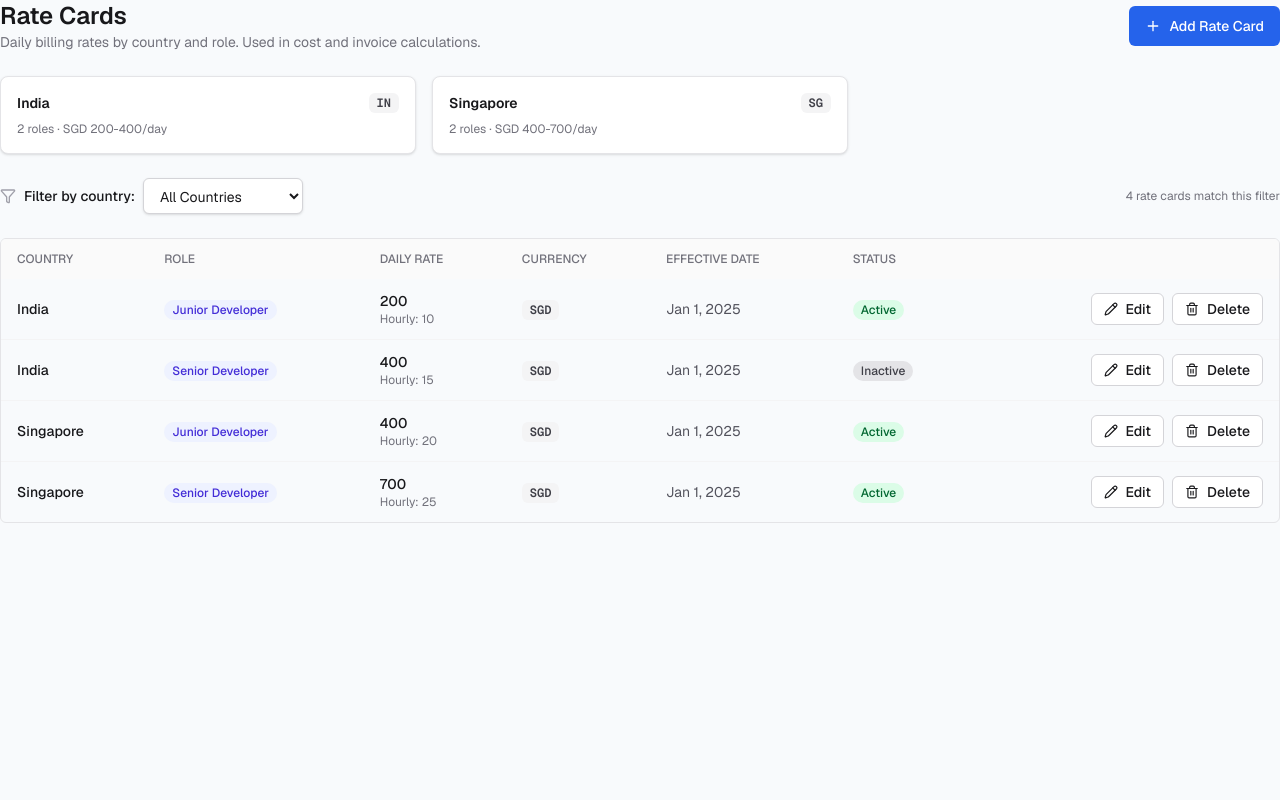
Scenario: RateCardsTable › opens the Add Rate Card modal when the header button is clicked
Expected: the text "2 roles · SGD 400-700/day" is shown, [449, 121, 597, 137]
Click the button "Add Rate Card" at x=1205, y=26, box [1129, 6, 1279, 46]
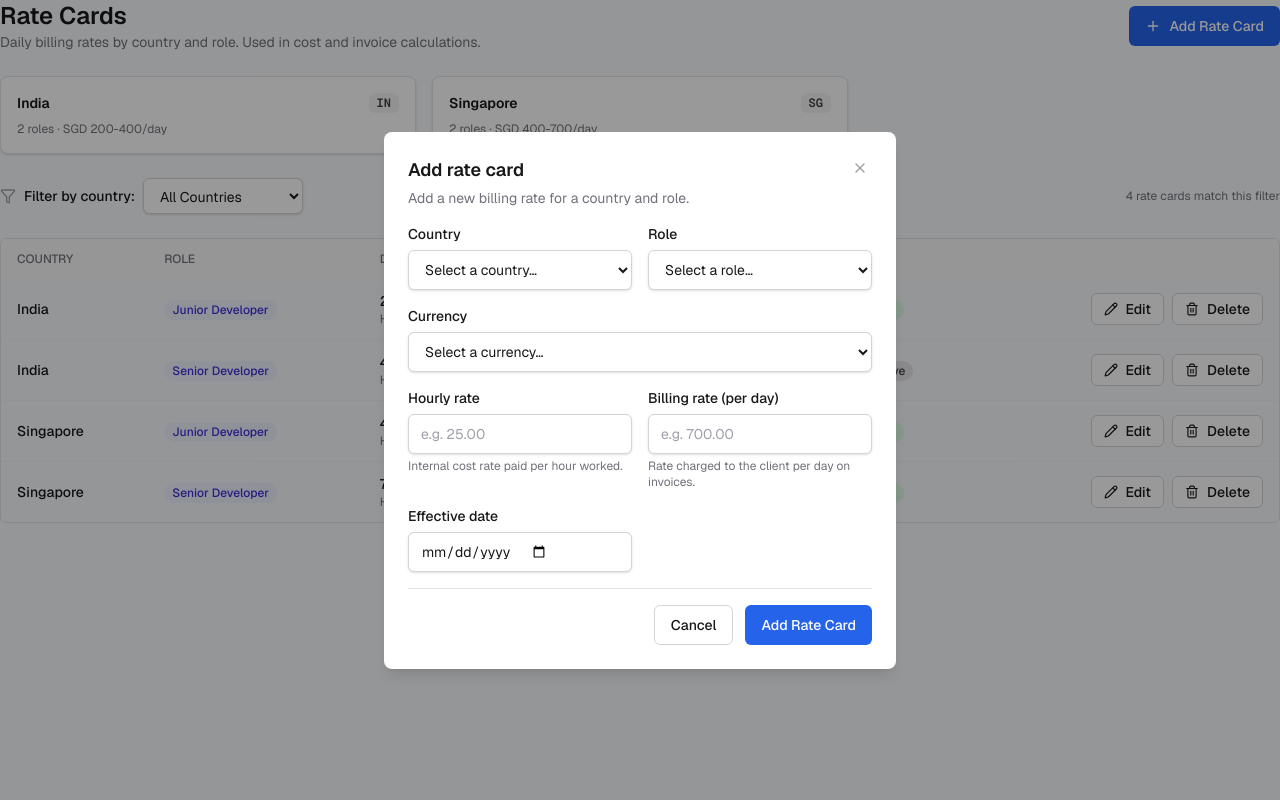
Expected: the heading "Add rate card" is shown, [408, 158, 524, 180]
